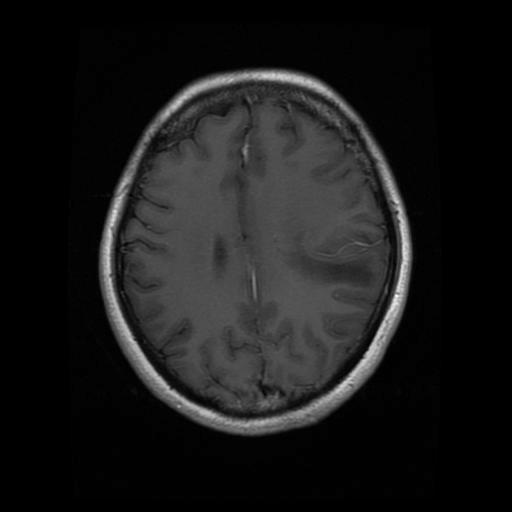Tumour-Glioma: (273, 217, 369, 294)
